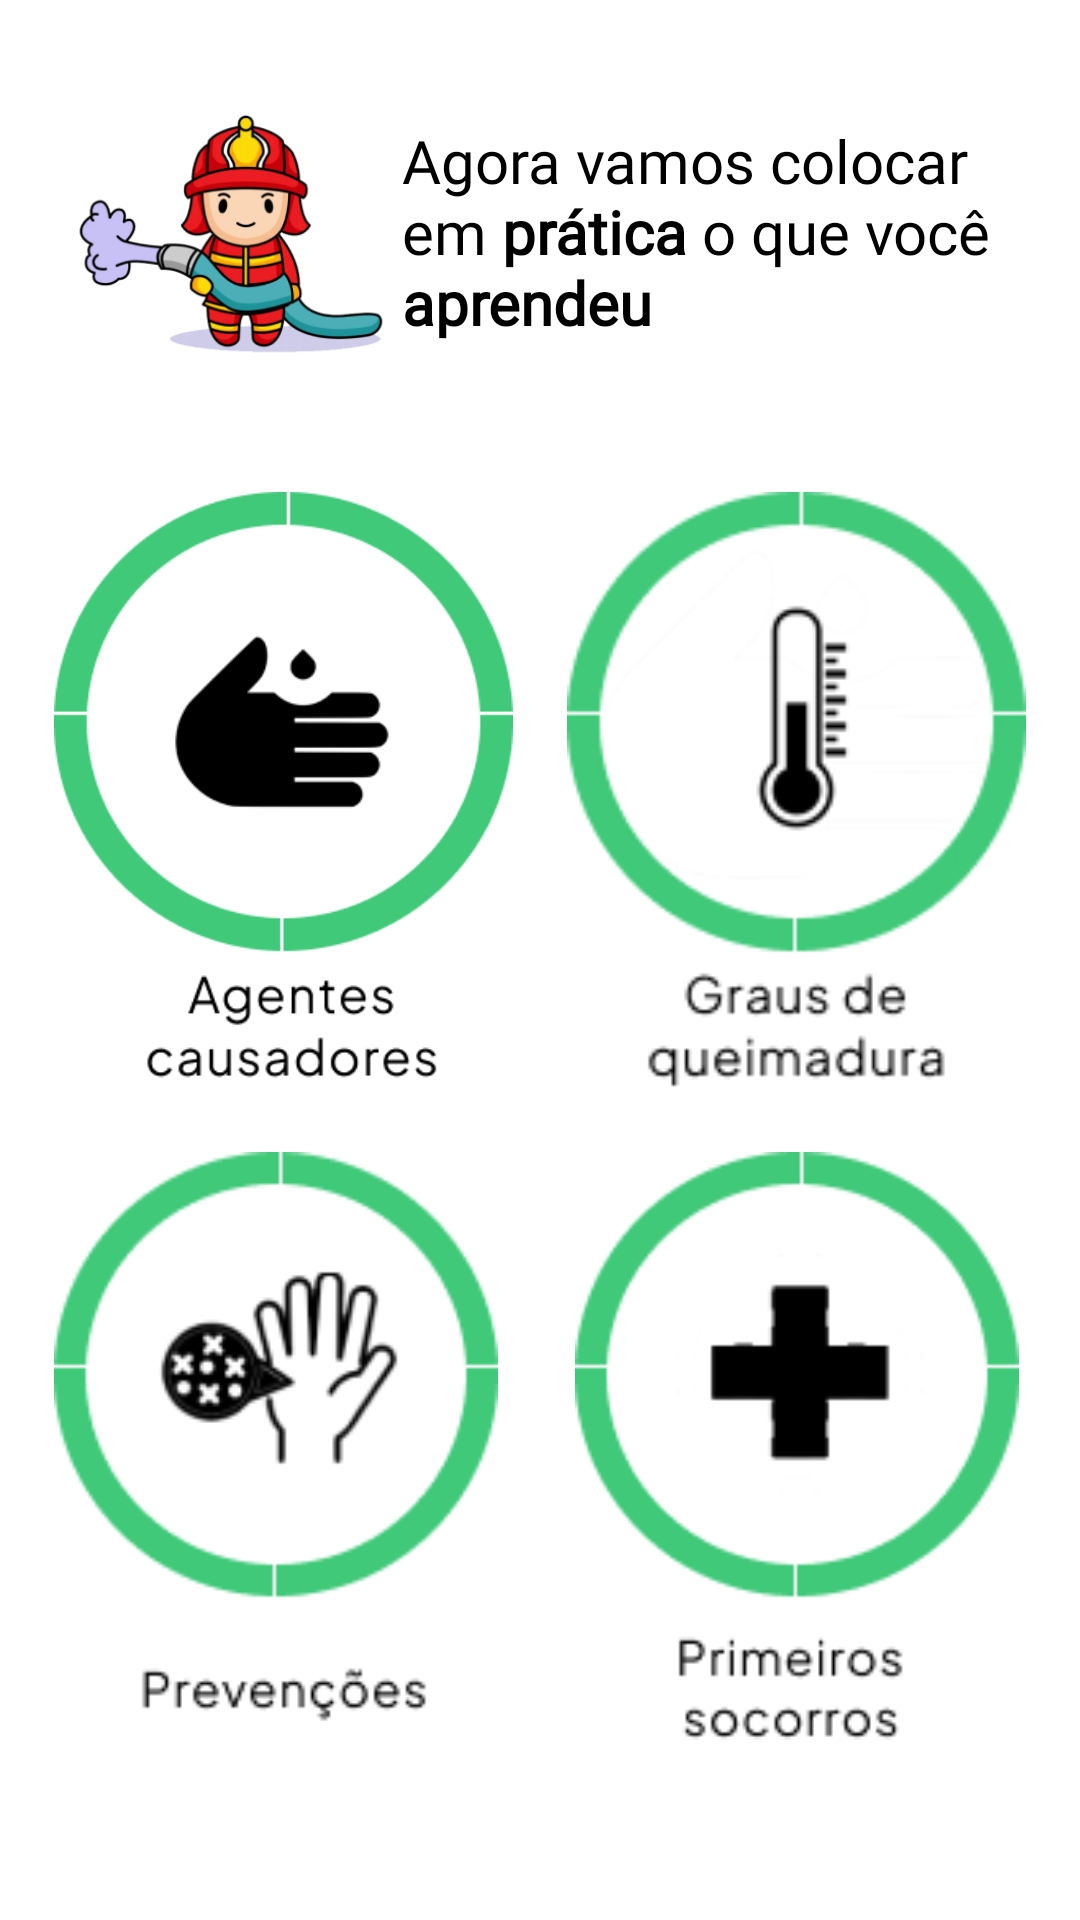

Locate icon controls on the screen. Image size 1080 x 1920, boxes as BBox(x1, y1, x2, y2).
bombeiro mangueira: BBox(79, 115, 383, 352)
